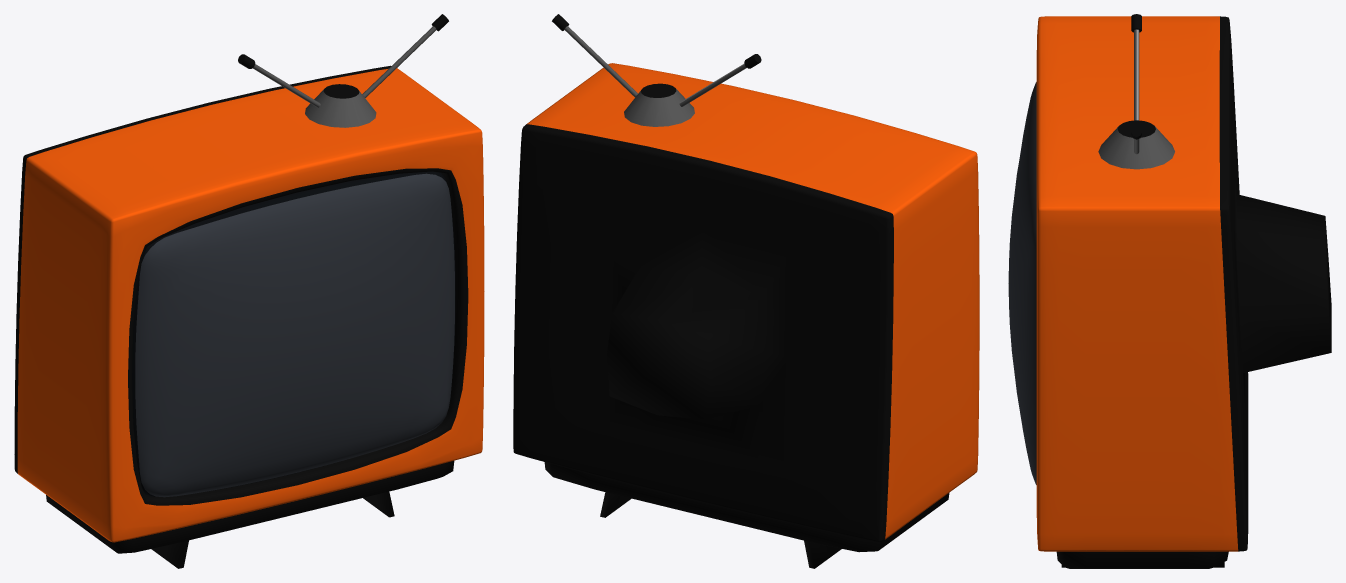
3 renders of one model, left to right at view 1: azimuth 30°, elevation 25°; view 2: azimuth 150°, elevation 25°; view 3: azimuth 270°, elevation 25°, orthographic. The views are drawn at different scales.
Visible parts, largest first — view 1: TV_Box, TV_GLASS, TV_Antena; view 2: TV_Box, TV_Antena; view 3: TV_Box, TV_GLASS, TV_Antena.
Boxes of the visible parts, x1,y1,x2,y2 form: TV_Box: [14, 65, 484, 568]; TV_GLASS: [132, 171, 455, 497]; TV_Antena: [238, 14, 448, 127]; TV_Box: [513, 63, 979, 568]; TV_Antena: [552, 14, 761, 126]; TV_Box: [1036, 16, 1331, 568]; TV_GLASS: [1008, 82, 1036, 484]; TV_Antena: [1098, 14, 1174, 169].
Bounding box in the file's own units: 85.57 × 98.44 × 58.34.
